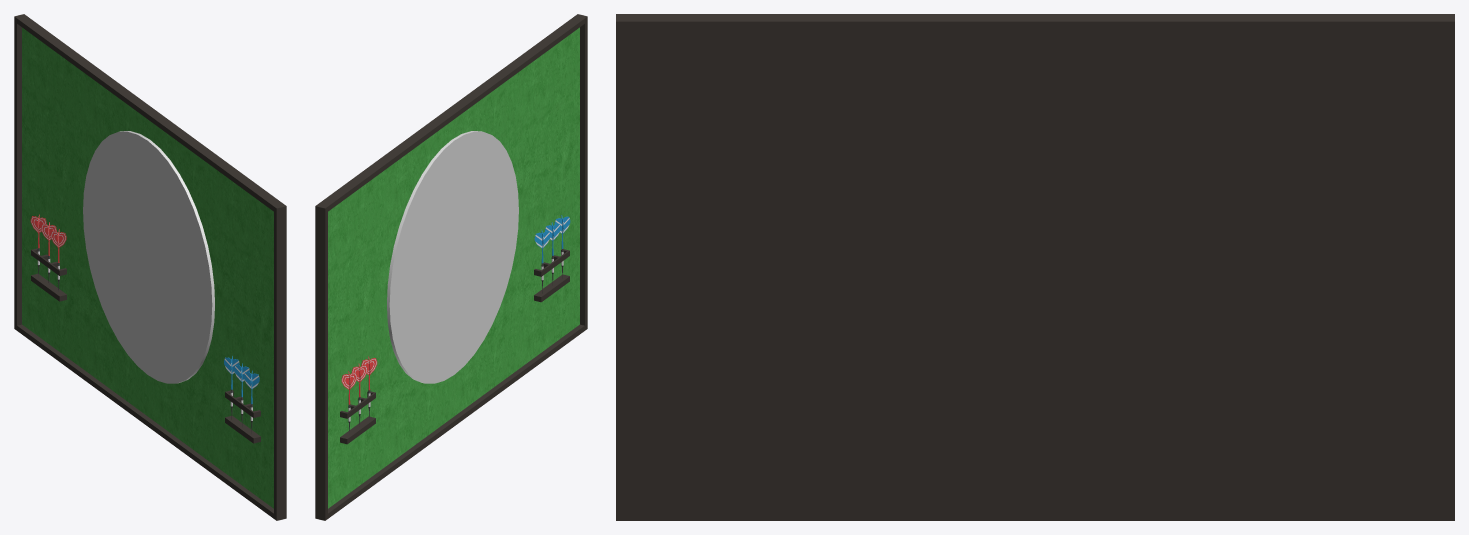
The model's file is alvo.fbx.
3 renders of one model, left to right at view 1: azimuth 30°, elevation 25°; view 2: azimuth 150°, elevation 25°; view 3: azimuth 270°, elevation 25°, orthographic. The views are drawn at different scales.
Parts seen in each view (by area): view 1: Moldura dardos, Alvo; view 2: Moldura dardos, Alvo; view 3: Moldura dardos.
Part boxes in pixels (x1,y1,x2,y2): Moldura dardos: (14,14,286,520); Alvo: (83,131,214,383); Moldura dardos: (315,14,587,520); Alvo: (387,131,518,383); Moldura dardos: (616,14,1454,520).
Size of the model in its own units: 2.88 by 59.94 by 91.29.
